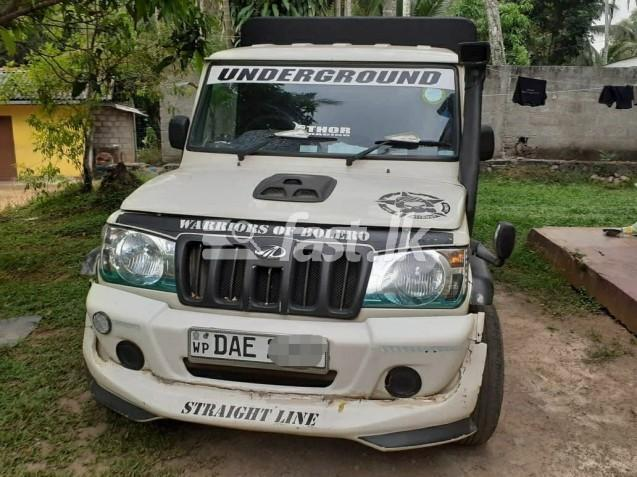truck: (81, 16, 516, 451)
